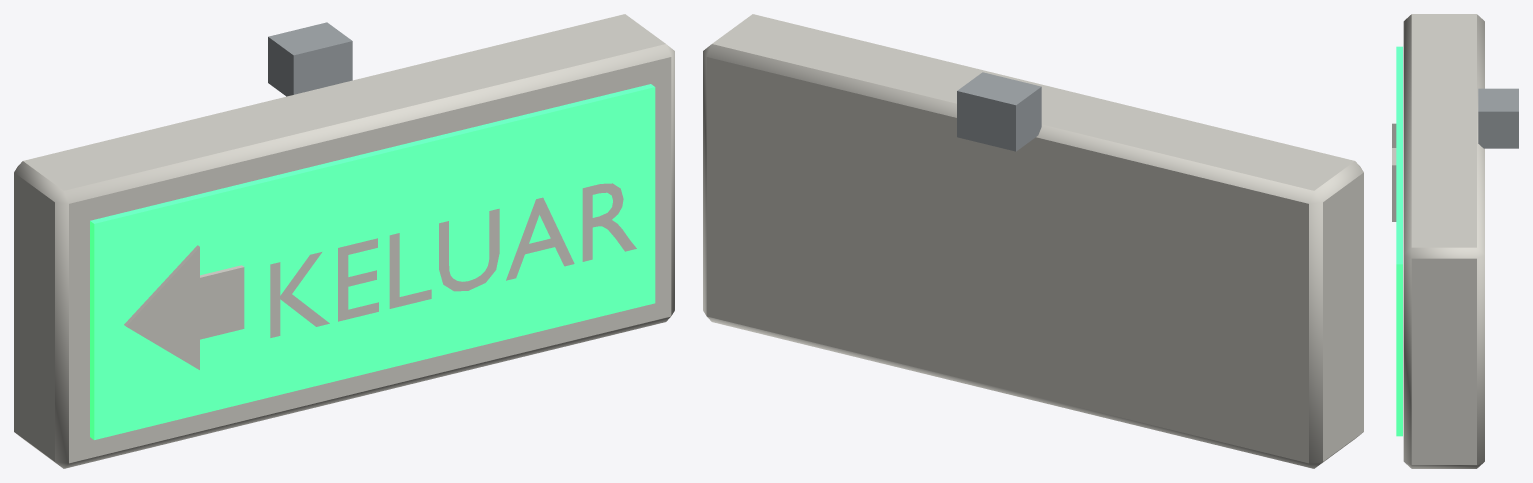
The model's file is exit_sign.glb.
3 views of the same model, side by side, from view 1: azimuth 30°, elevation 25°; view 2: azimuth 150°, elevation 25°; view 3: azimuth 270°, elevation 25° (orthographic). The views are drawn at different scales.
Parts seen in each view (by area): view 1: ExitFace, ExitBox, ExitText; view 2: ExitBox; view 3: ExitBox, ExitFace, ExitText.
Boxes of the visible parts, x1=… form: ExitFace: x1=90, y1=84, x2=655, y2=439; ExitBox: x1=14, y1=14, x2=674, y2=468; ExitText: x1=124, y1=183, x2=636, y2=369; ExitBox: x1=703, y1=14, x2=1363, y2=468; ExitBox: x1=1403, y1=14, x2=1518, y2=468; ExitFace: x1=1396, y1=46, x2=1402, y2=436; ExitText: x1=1392, y1=123, x2=1396, y2=221.
Bounding box in the file's own units: 0.42 × 0.205 × 0.0935.
